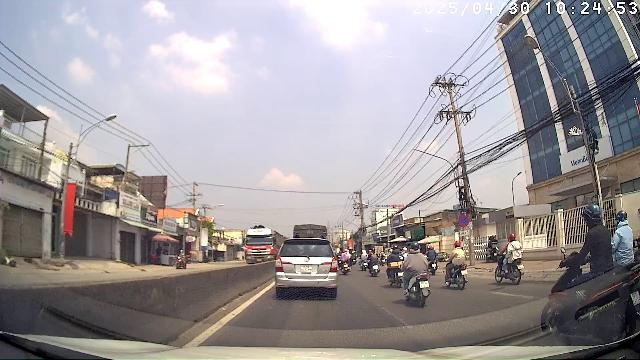130-cam-dung-va-do-xe: (458, 216, 469, 226)
